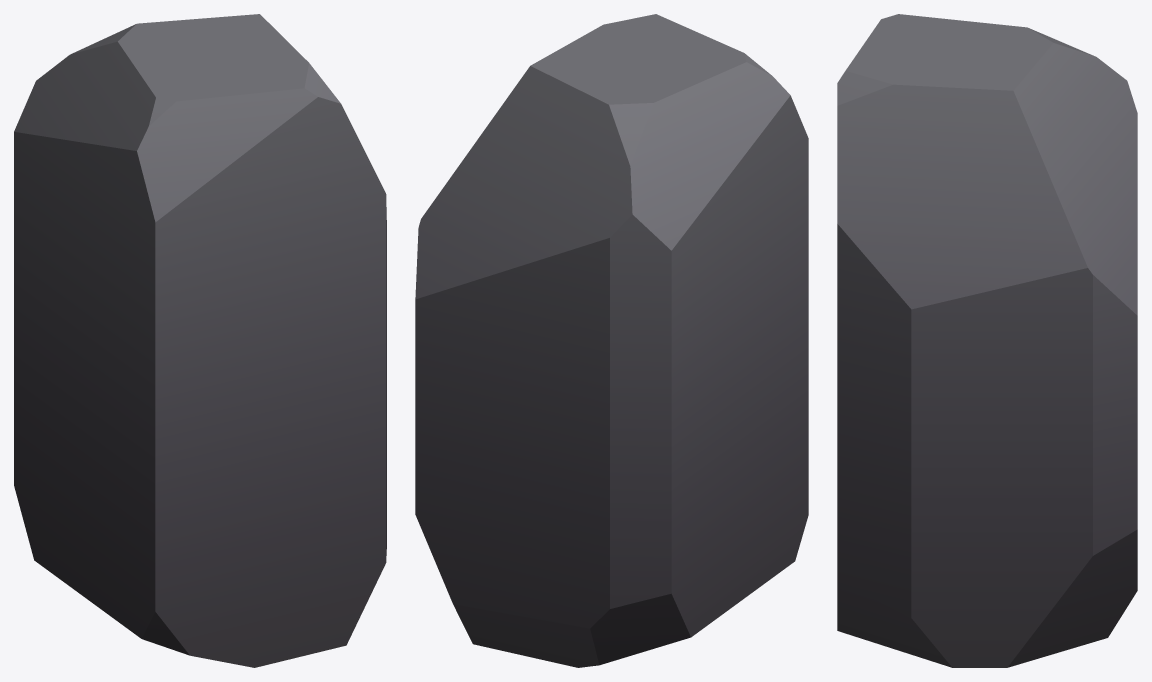
File: Rock_05.glb
The picture shows the model from 3 angles, left to right: view 1: azimuth 30°, elevation 25°; view 2: azimuth 150°, elevation 25°; view 3: azimuth 270°, elevation 25°; orthographic projection. The views are drawn at different scales.
Parts seen in each view (by area): view 1: Rock_05_LOD0; view 2: Rock_05_LOD0; view 3: Rock_05_LOD0.
Boxes of the visible parts, bbox=[...] form: Rock_05_LOD0: bbox=[14, 14, 386, 667]; Rock_05_LOD0: bbox=[415, 14, 808, 667]; Rock_05_LOD0: bbox=[837, 14, 1137, 667].
Size of what is drawn, in the model's own units: 1.51 by 3.01 by 1.51.
1 material, 1 textured.
